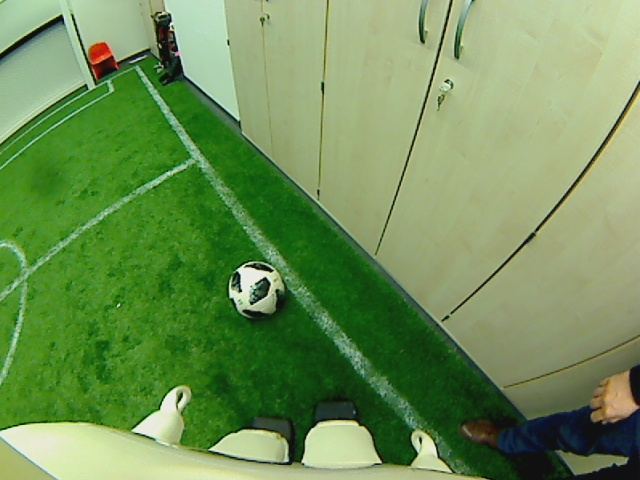ball: (225, 259, 286, 319)
